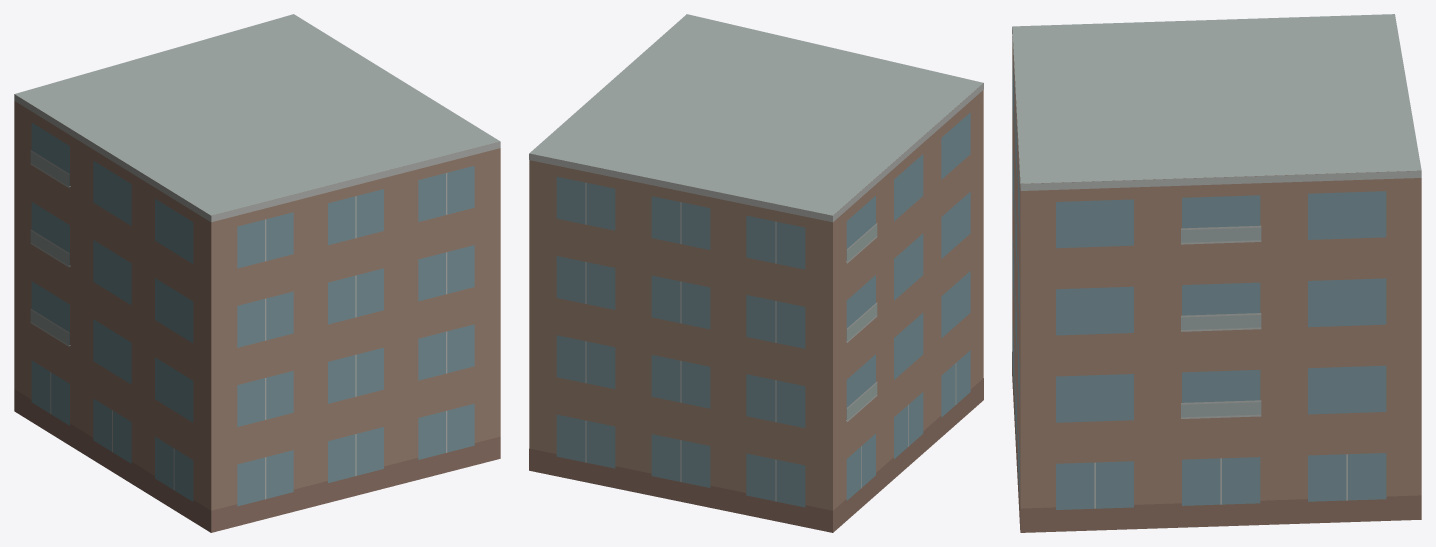
File: survey-upis-32608118.glb
3 renders of one model, left to right at view 1: azimuth 30°, elevation 25°; view 2: azimuth 150°, elevation 25°; view 3: azimuth 270°, elevation 25°, orthographic. The views are drawn at different scales.
Visible parts, largest first — view 1: survey-upis-32608118.tmp; view 2: survey-upis-32608118.tmp; view 3: survey-upis-32608118.tmp.
Part boxes in pixels (box(x1,y1,x2,y2)): survey-upis-32608118.tmp: box(14, 14, 500, 532); survey-upis-32608118.tmp: box(529, 14, 983, 532); survey-upis-32608118.tmp: box(1012, 14, 1421, 532).
Size of the model in its own units: 12.21 by 11.7 by 12.45.
